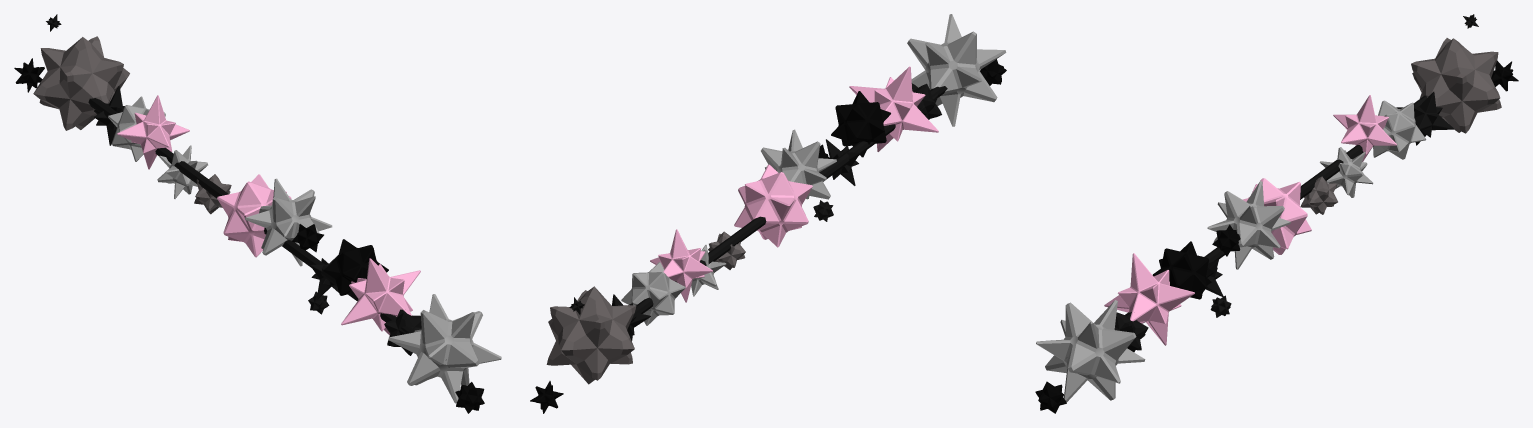
File: sphere chain_st2.fbx
3 views of the same model, side by side, from view 1: azimuth 30°, elevation 25°; view 2: azimuth 150°, elevation 25°; view 3: azimuth 330°, elevation 25° (orthographic).
Parts seen in each view (by area): view 1: star_B; view 2: star_B; view 3: star_B.
Part boxes in pixels (bbox=[...]): star_B: bbox=[14, 14, 501, 413]; star_B: bbox=[530, 14, 1006, 413]; star_B: bbox=[1035, 14, 1518, 413].
Bounding box in the file's own units: 47.52 × 54.89 × 409.
